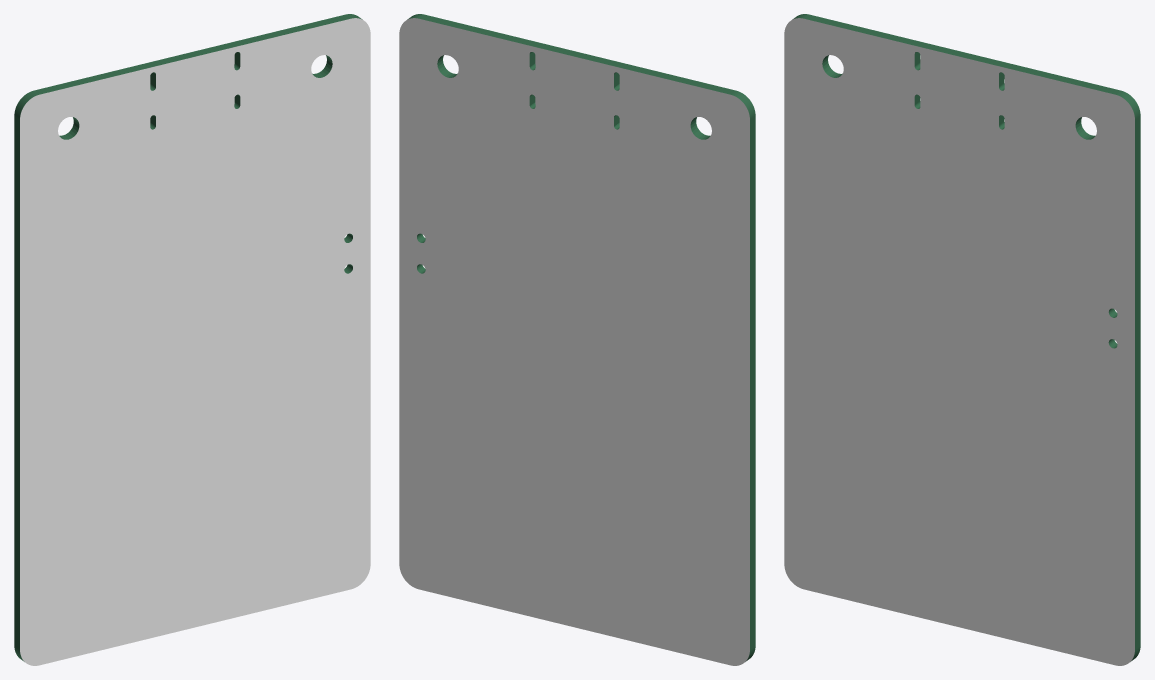
Rendered from FrozenR6-Box0.glb.
3 views of the same model, side by side, from view 1: azimuth 30°, elevation 25°; view 2: azimuth 150°, elevation 25°; view 3: azimuth 330°, elevation 25° (orthographic).
Parts seen in each view (by area): view 1: Box0_9082f2, Box0_c85727; view 2: Box0_db4222, Box0_c85727; view 3: Box0_9082f2, Box0_c85727.
Boxes of the visible parts, box(x1,y1,x2,y2) form: Box0_9082f2: box(20, 18, 370, 665); Box0_c85727: box(14, 14, 362, 661); Box0_db4222: box(399, 18, 749, 665); Box0_c85727: box(407, 14, 755, 661); Box0_9082f2: box(784, 18, 1134, 665); Box0_c85727: box(792, 14, 1140, 661).
Bounding box in the file's own units: 36 × 56 × 1.
